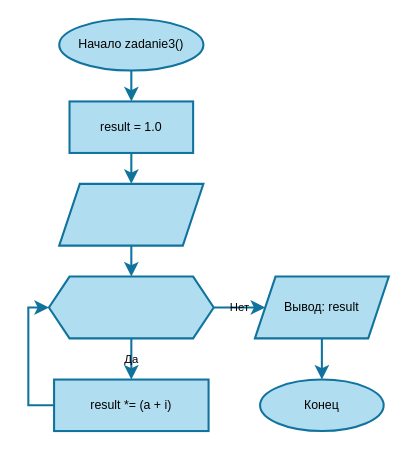
The diagram is 407 pixels wide and 449 high, and some of its shapes have lost their labels. The shapes that lost their labels are listed below. From the top down, each one's centre as x and y in pixels, then its label:
At pixel 131 214: "введите a, n".
At pixel 130 307: "i = 0, 1, ..., n + 1".
